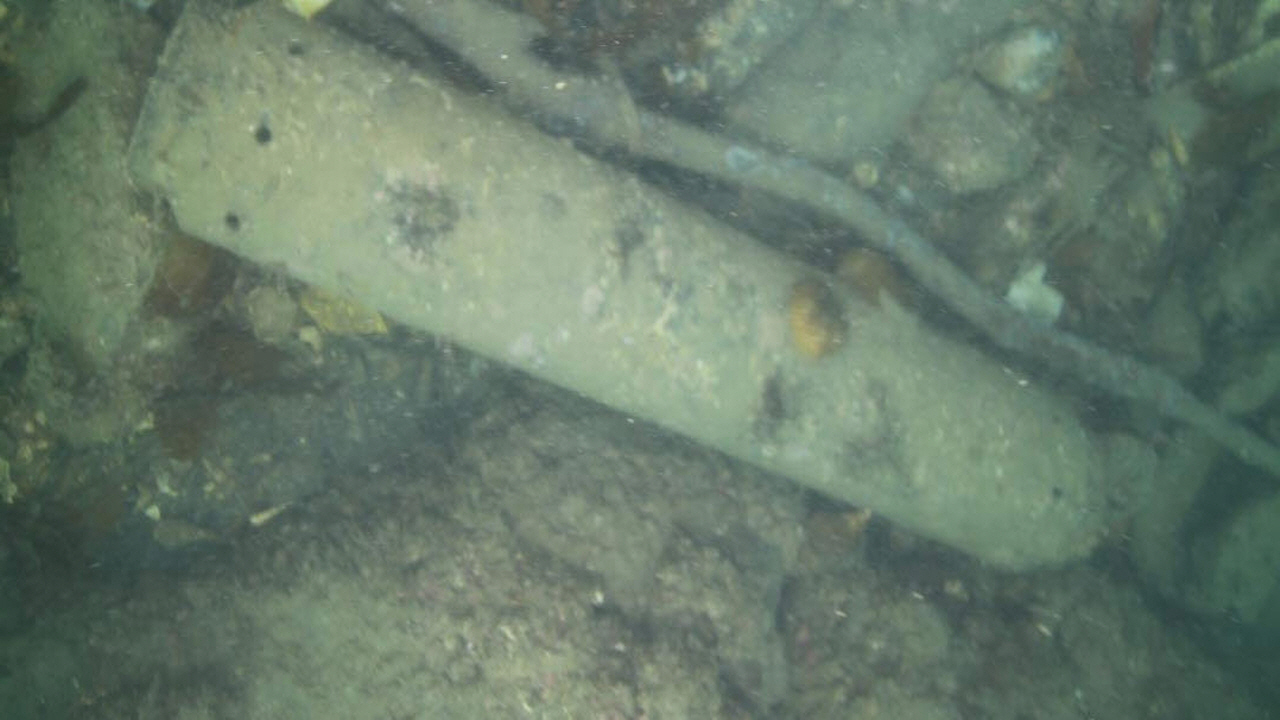eel fish trap: (123, 0, 1156, 572)
